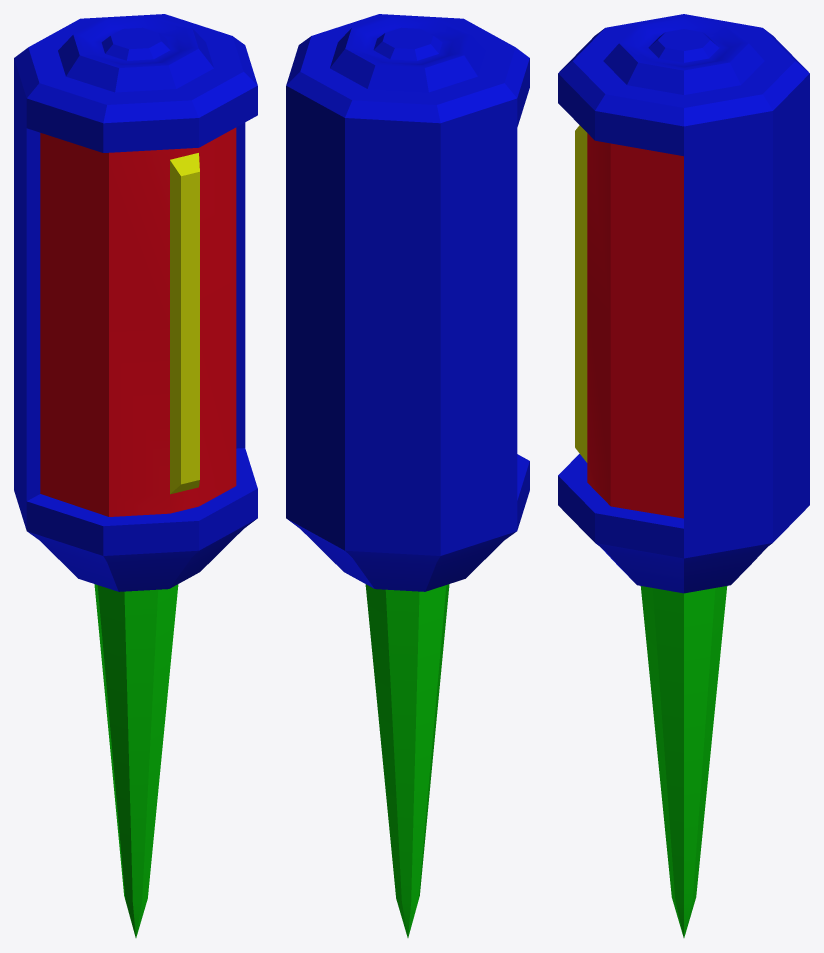
File: SM_vaccine.fbx
The picture shows the model from 3 angles, left to right: view 1: azimuth 30°, elevation 25°; view 2: azimuth 150°, elevation 25°; view 3: azimuth 270°, elevation 25°; orthographic projection.
Parts seen in each view (by area): view 1: geo_vaccine; view 2: geo_vaccine; view 3: geo_vaccine.
Part boxes in pixels (x1,y1,x2,y2): geo_vaccine: [14, 14, 257, 937]; geo_vaccine: [286, 14, 529, 937]; geo_vaccine: [558, 14, 809, 937].
Size of the model in its own units: 100 by 394 by 100.
